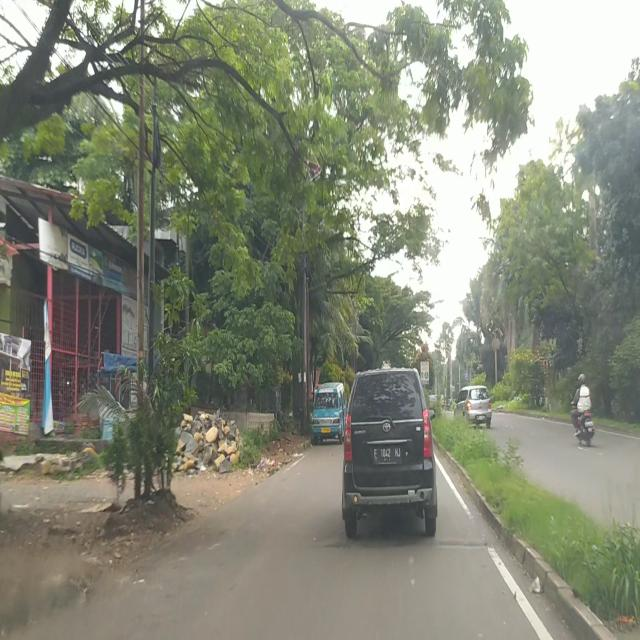Sewer Cover: (319, 540, 483, 552)
